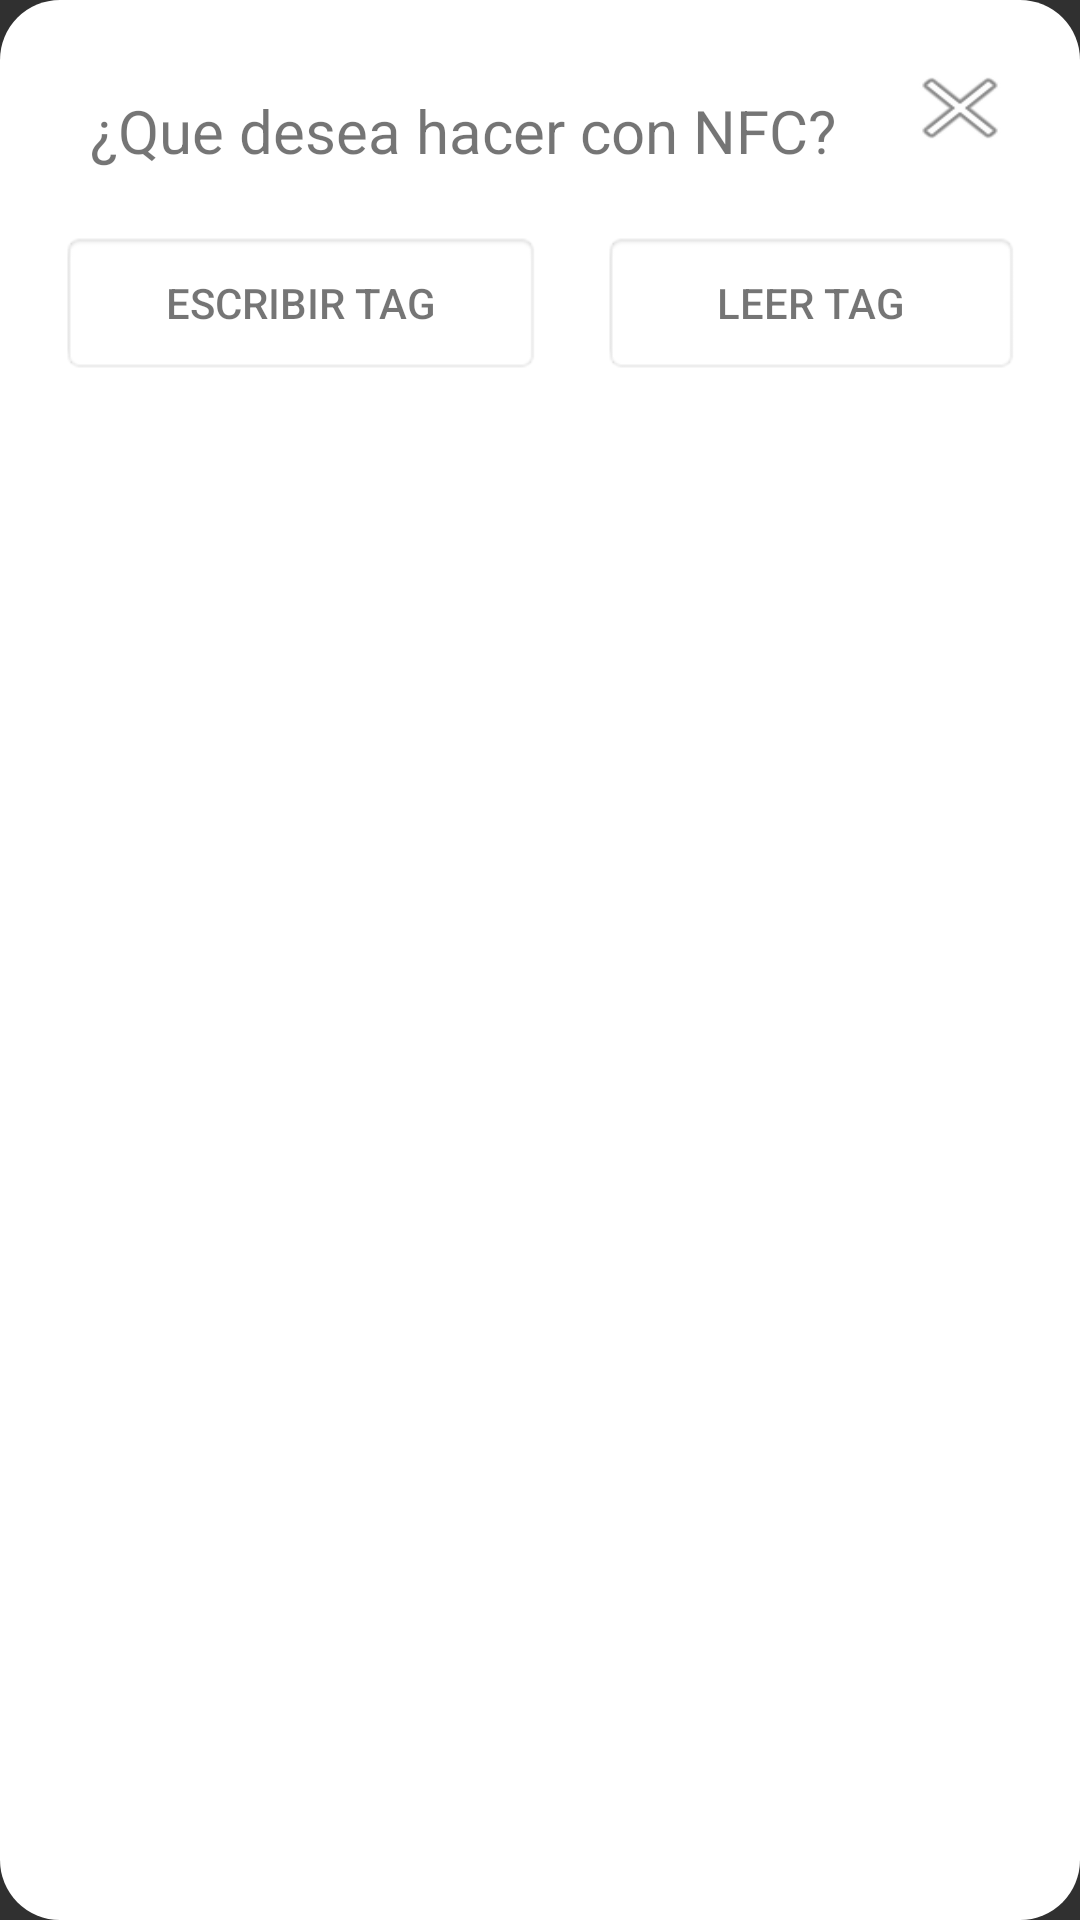

Point at icon controls on the screen. Image size 1080*1920, points as (x,y).
close clear cancel: (960,108)
